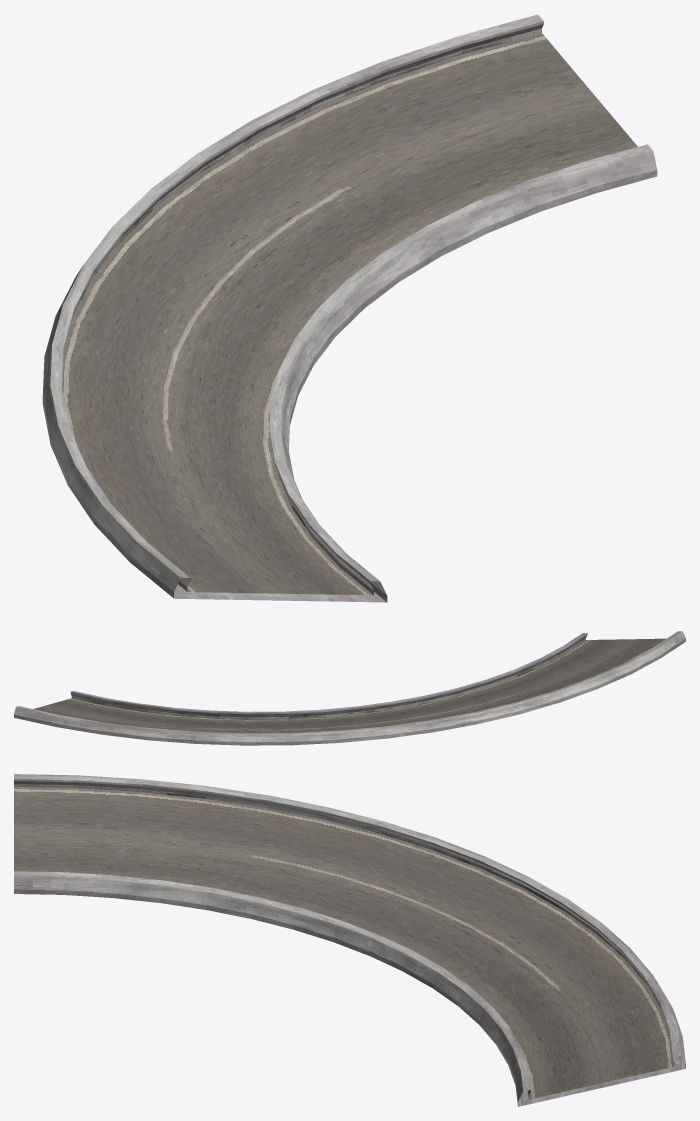
The model's file is turn-right4x4.glb.
3 views of the same model, one above another, from view 1: azimuth 30°, elevation 25°; view 2: azimuth 150°, elevation 25°; view 3: azimuth 270°, elevation 25° (orthographic). The views are drawn at different scales.
Visible parts, largest first — view 1: road-Turn-HalfBankedRight-HalfBankedRight-Even-Right-Size4; view 2: road-Turn-HalfBankedRight-HalfBankedRight-Even-Right-Size4; view 3: road-Turn-HalfBankedRight-HalfBankedRight-Even-Right-Size4.
Part boxes in pixels (<box>): road-Turn-HalfBankedRight-HalfBankedRight-Even-Right-Size4: <box>42,14,657,602</box>; road-Turn-HalfBankedRight-HalfBankedRight-Even-Right-Size4: <box>14,631,685,745</box>; road-Turn-HalfBankedRight-HalfBankedRight-Even-Right-Size4: <box>14,774,685,1106</box>.
Size of the model in its own units: 4 by 0.3359 by 4.
2 materials, 2 textured.
